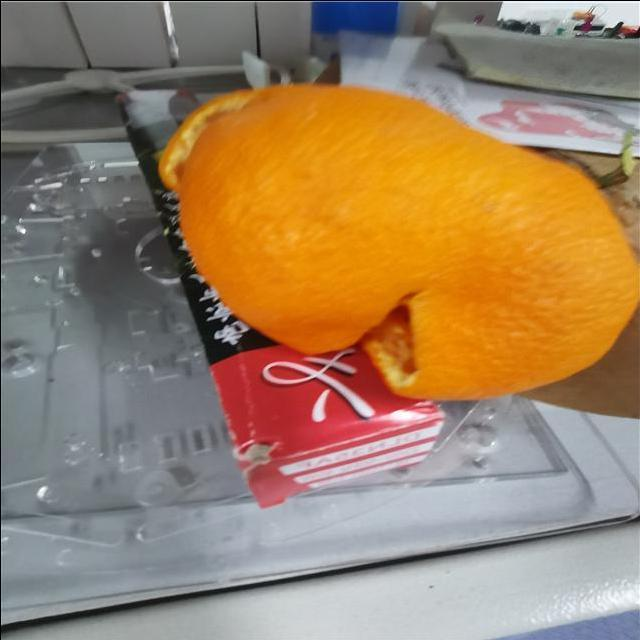orange peel: (158, 82, 640, 400)
